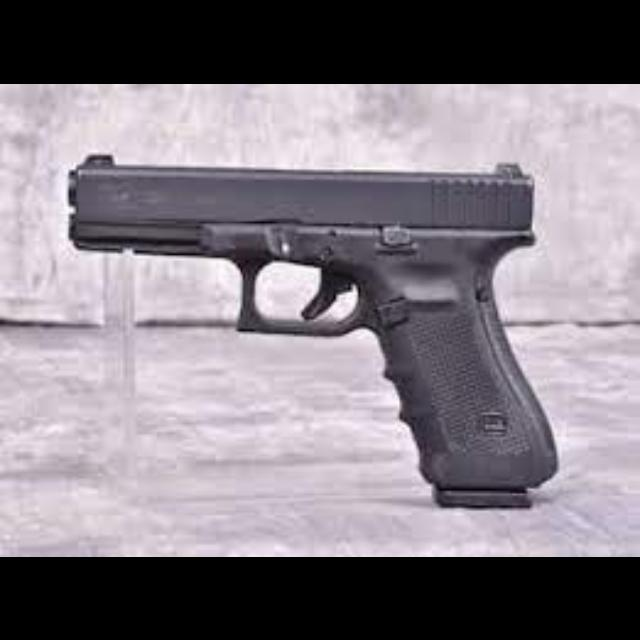handgun: (59, 148, 564, 514)
